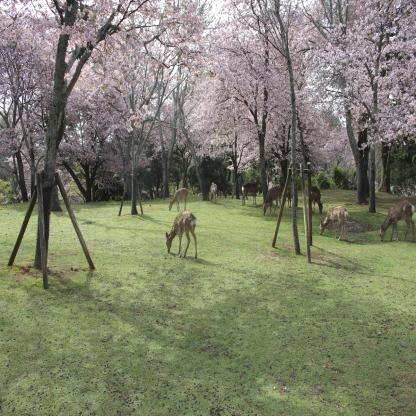Someiyoshino: (3, 0, 215, 195), (182, 0, 345, 173), (304, 3, 415, 149)
